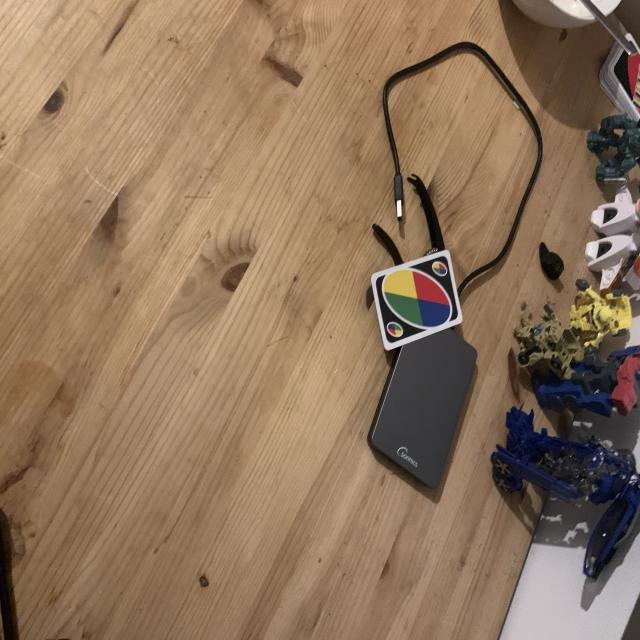lcolor-40: (431, 261, 449, 278)
